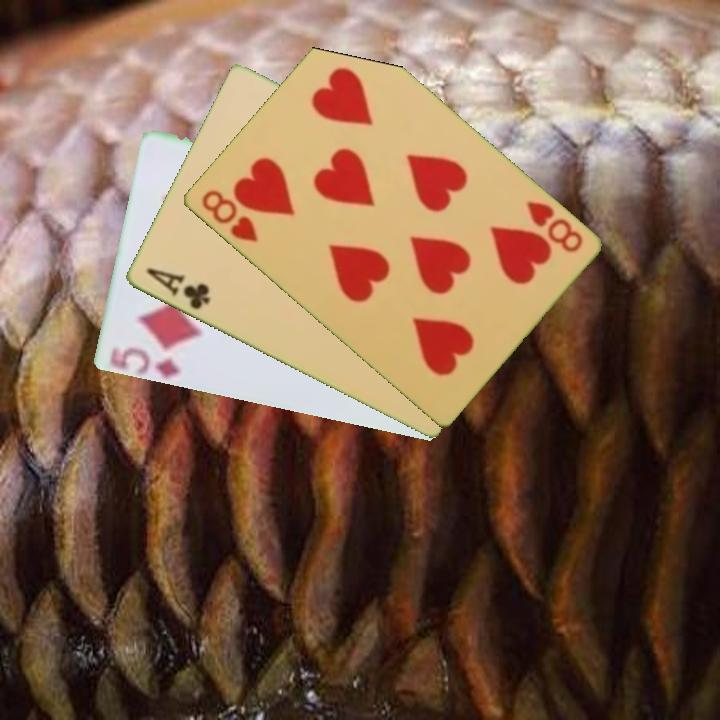5d: (109, 344, 184, 381)
8h: (197, 186, 260, 246), (522, 197, 585, 256)
Ac: (142, 264, 213, 313)
